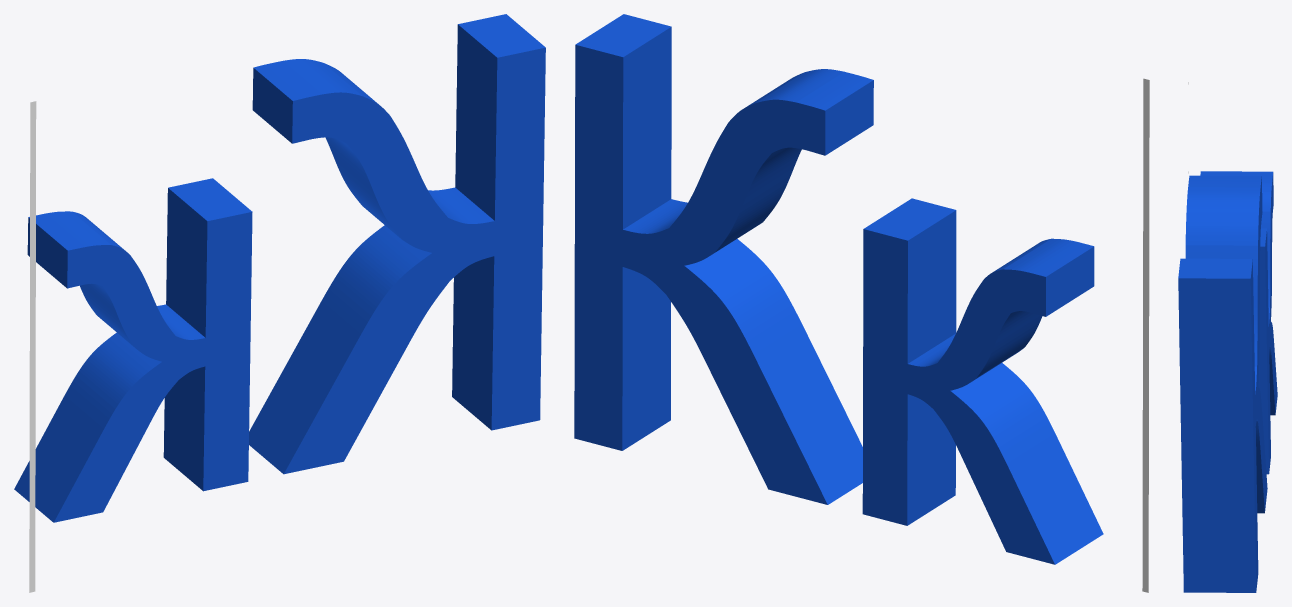
3 renders of one model, left to right at view 1: azimuth 30°, elevation 25°; view 2: azimuth 150°, elevation 25°; view 3: azimuth 270°, elevation 25°, orthographic. The views are drawn at different scales.
Visible parts, largest first — view 1: Mesh_0.013, Плоскость; view 2: Mesh_0.013, Плоскость; view 3: Mesh_0.013.
Boxes of the visible parts, bbox=[...] form: Mesh_0.013: bbox=[14, 14, 545, 522]; Плоскость: bbox=[29, 101, 36, 592]; Mesh_0.013: bbox=[574, 14, 1103, 564]; Плоскость: bbox=[1142, 78, 1149, 592]; Mesh_0.013: bbox=[1178, 171, 1277, 592].
Size of the model in its own units: 10.26 by 9.38 by 2.05.
